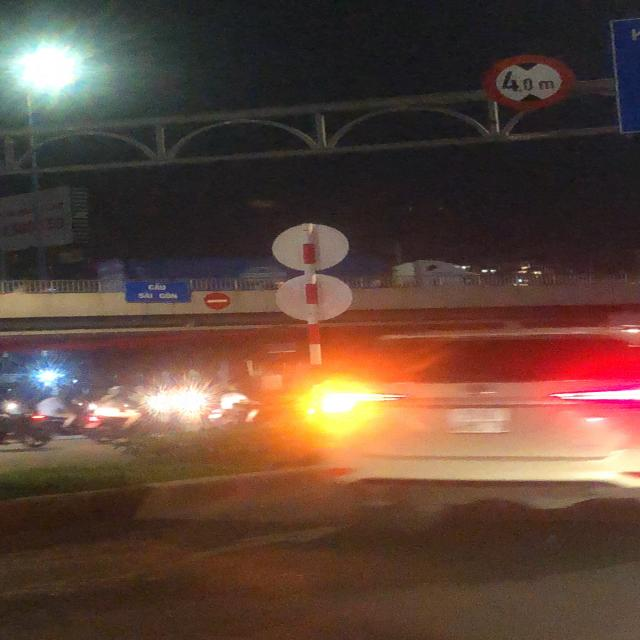Bien bao cam di nguoc chieu: (200, 291, 234, 313)
Bien bao han che chieu cao: (480, 48, 583, 113)
